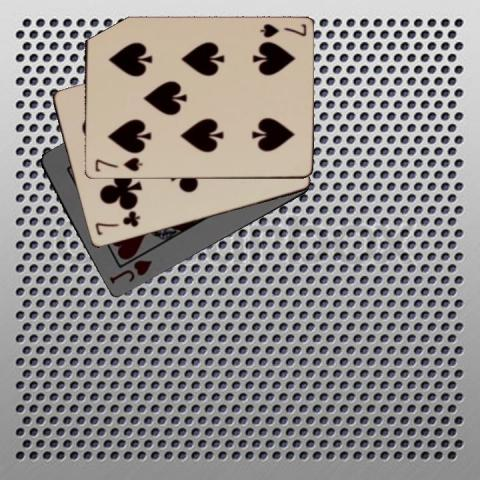7c: (92, 211, 142, 237)
7s: (257, 21, 307, 40), (92, 156, 144, 174)
Jh: (106, 257, 153, 286)
